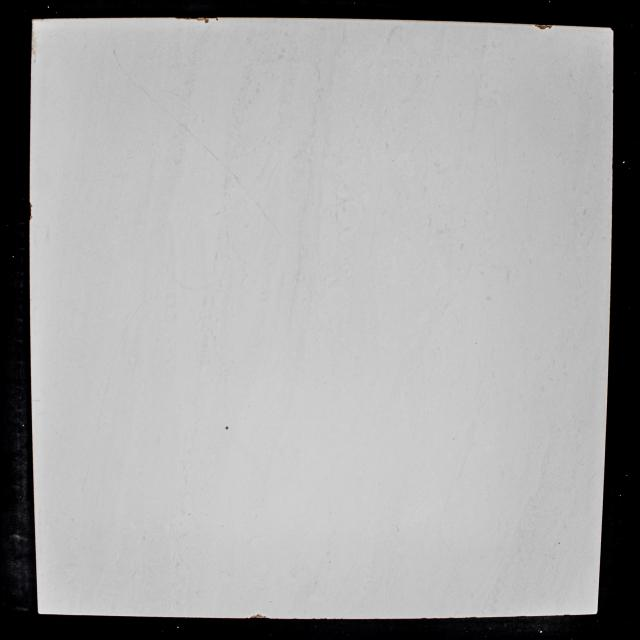edge-chipping: (174, 17, 196, 20), (539, 24, 546, 30), (29, 202, 33, 212), (196, 18, 204, 22), (29, 213, 33, 221), (255, 614, 263, 618), (205, 17, 209, 23), (249, 615, 255, 619), (609, 27, 614, 31), (534, 24, 538, 28), (549, 25, 553, 29), (210, 17, 215, 19), (216, 17, 218, 21), (263, 616, 267, 618), (245, 617, 249, 619), (546, 24, 548, 28), (267, 617, 270, 619)
hole: (225, 426, 229, 430)
line: (130, 79, 151, 99), (203, 145, 220, 163), (256, 202, 269, 221), (230, 172, 243, 188), (112, 49, 122, 69), (182, 125, 197, 138)
